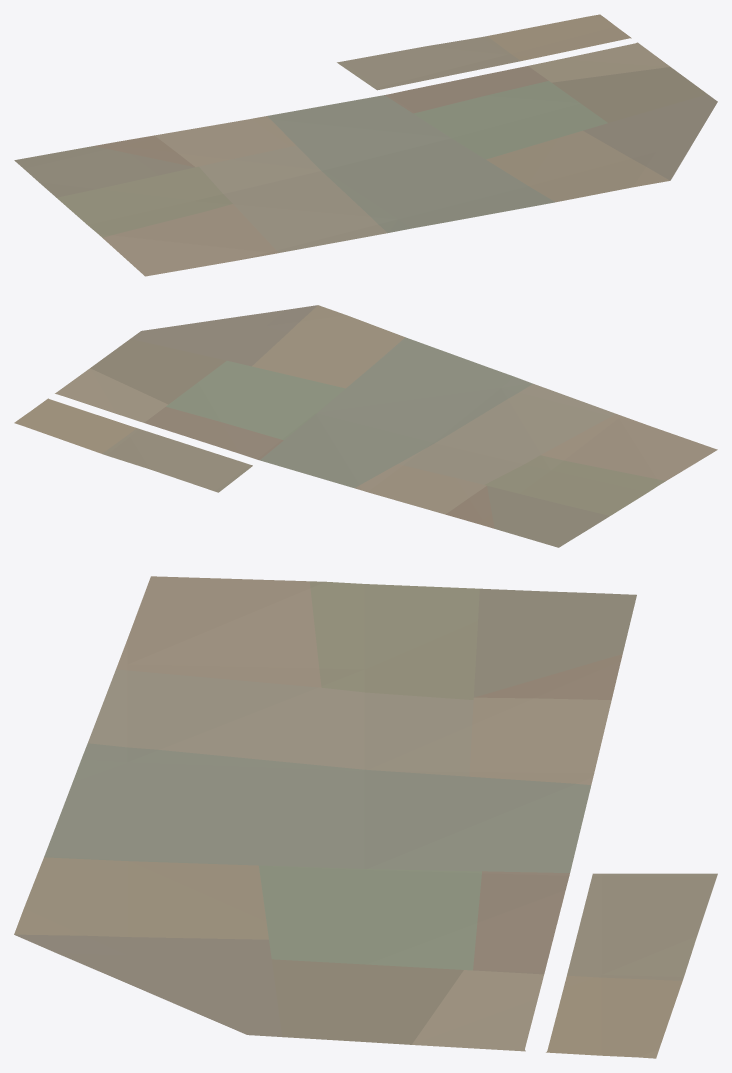
The model's file is farm_19_19_soil.glb.
The picture shows the model from 3 angles, top to bottom: view 1: azimuth 30°, elevation 25°; view 2: azimuth 150°, elevation 25°; view 3: azimuth 270°, elevation 25°; orthographic projection. The views are drawn at different scales.
Parts seen in each view (by area): view 1: geometry_0; view 2: geometry_0; view 3: geometry_0.
Boxes of the visible parts, left/top/right/bottom form: geometry_0: left=14, top=14, right=717, bottom=276; geometry_0: left=14, top=305, right=717, bottom=547; geometry_0: left=14, top=576, right=717, bottom=1058.
Size of the model in its own units: 380 by 9.73 by 238.
